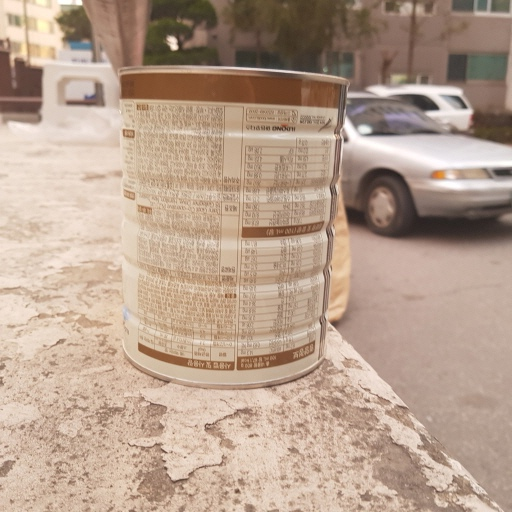Metal_1: (111, 61, 348, 384)
